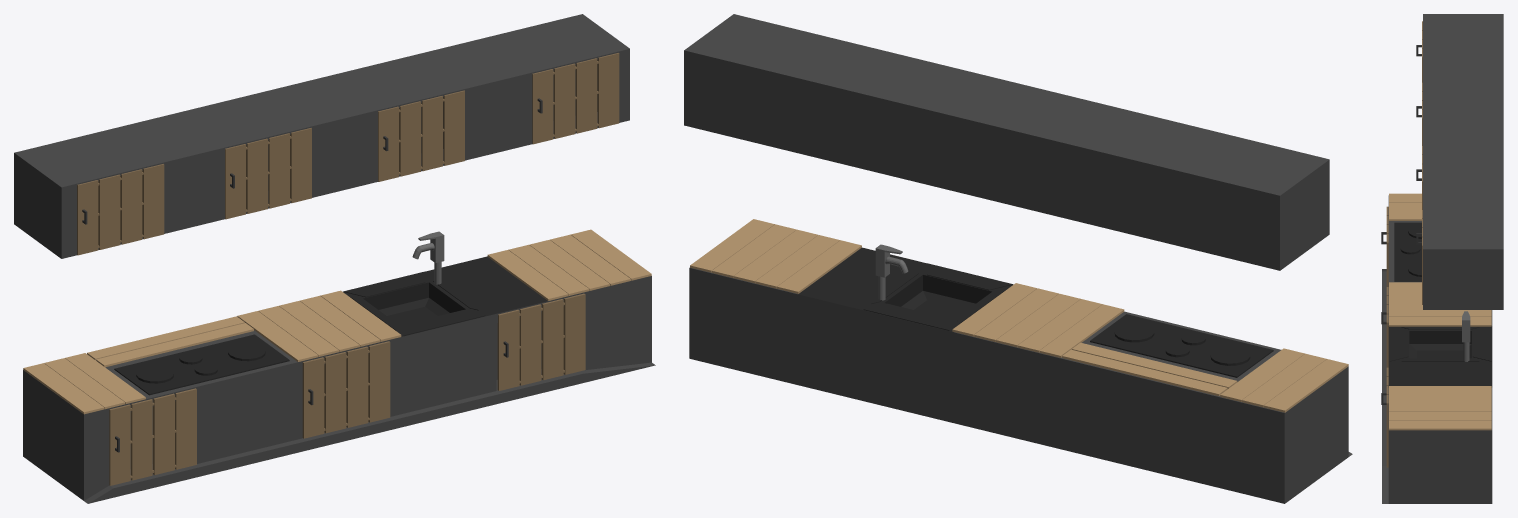
The model's file is cuisine.fbx.
3 views of the same model, side by side, from view 1: azimuth 30°, elevation 25°; view 2: azimuth 150°, elevation 25°; view 3: azimuth 270°, elevation 25° (orthographic). The views are drawn at different scales.
Visible parts, largest first — view 1: Cube.490, Cube.510, Cube.508, Cube.509, Cube.507, Cube.511, Cube.514, Cube.512, Cube.513, Cube.506, Cube.505, Cube.492 (+12 smaller); view 2: Cube.510, Cube.490, Cube.505, Cube.506, Cube.502, Cube.492, Cube.497, Cube.501, Cube.496, Cube.493, Cube.498, Cube.503 (+5 smaller); view 3: Cube.510, Cube.490, Cube.496, Cube.501, Cube.495, Cube.492, Cube.493, Cube.494, Cube.500, Cube.504, Cube.509, Cube.498 (+10 smaller).
Part boxes in pixels (x1=…): Cube.490: x1=23, y1=256, x2=655, y2=503; Cube.510: x1=14, y1=14, x2=629, y2=258; Cube.508: x1=302, y1=341, x2=390, y2=438; Cube.509: x1=497, y1=293, x2=585, y2=390; Cube.507: x1=109, y1=388, x2=196, y2=485; Cube.511: x1=77, y1=164, x2=164, y2=255; Cube.514: x1=532, y1=53, x2=619, y2=144; Cube.512: x1=225, y1=128, x2=311, y2=219; Cube.513: x1=378, y1=90, x2=464, y2=181; Cube.506: x1=96, y1=323, x2=253, y2=367; Cube.505: x1=87, y1=316, x2=244, y2=360; Cube.492: x1=487, y1=250, x2=568, y2=300; Cube.510: x1=684, y1=14, x2=1329, y2=270; Cube.490: x1=689, y1=247, x2=1352, y2=503; Cube.505: x1=1062, y1=349, x2=1227, y2=396; Cube.506: x1=1072, y1=342, x2=1237, y2=388; Cube.502: x1=1263, y1=359, x2=1348, y2=412; Cube.492: x1=777, y1=240, x2=861, y2=293; Cube.497: x1=1039, y1=304, x2=1124, y2=357; Cube.501: x1=952, y1=283, x2=1036, y2=336; Cube.496: x1=690, y1=219, x2=774, y2=272; Cube.493: x1=755, y1=235, x2=840, y2=288; Cube.498: x1=1017, y1=299, x2=1102, y2=352; Cube.503: x1=1242, y1=353, x2=1326, y2=407; Cube.510: x1=1423, y1=14, x2=1503, y2=309; Cube.490: x1=1382, y1=195, x2=1492, y2=503; Cube.496: x1=1389, y1=420, x2=1491, y2=430; Cube.501: x1=1389, y1=316, x2=1491, y2=326; Cube.495: x1=1389, y1=411, x2=1491, y2=420; Cube.492: x1=1389, y1=386, x2=1491, y2=394; Cube.493: x1=1389, y1=394, x2=1491, y2=402; Cube.494: x1=1389, y1=403, x2=1491, y2=411; Cube.500: x1=1389, y1=308, x2=1491, y2=316; Cube.504: x1=1389, y1=210, x2=1421, y2=220; Cube.509: x1=1381, y1=367, x2=1388, y2=467; Cube.498: x1=1389, y1=290, x2=1421, y2=299.
Bounding box in the file's own units: 511 × 256 × 112.
